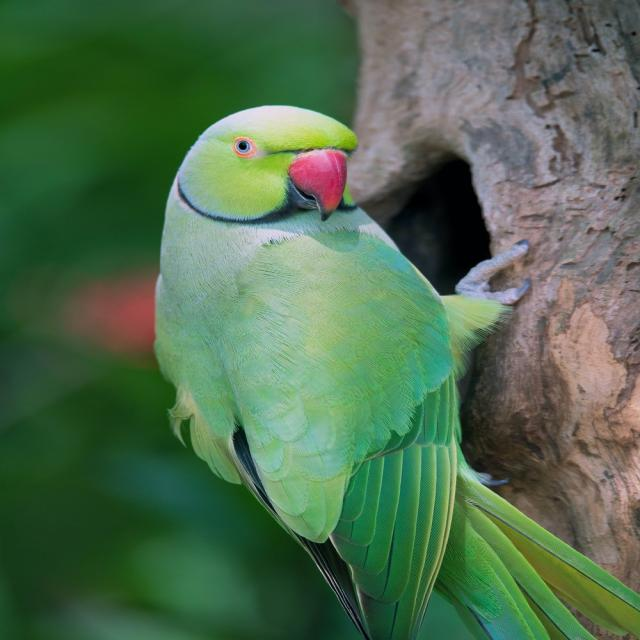Parrot: (143, 97, 635, 640)
